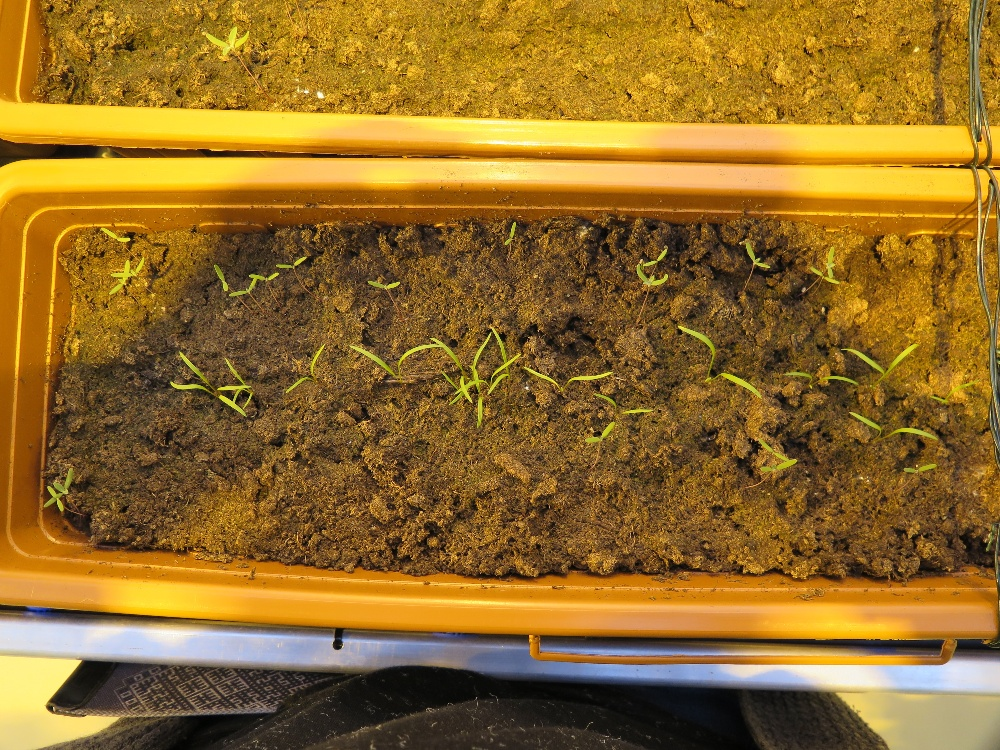crop: (673, 322, 780, 413), (166, 342, 268, 420), (432, 338, 512, 429), (843, 401, 943, 451), (466, 326, 527, 404), (777, 358, 871, 408), (846, 338, 930, 392), (346, 338, 443, 383), (518, 363, 614, 401), (284, 333, 330, 404), (739, 433, 807, 481), (589, 386, 664, 429), (575, 420, 623, 454)
weed: (198, 20, 268, 76), (257, 245, 323, 288), (39, 461, 84, 522), (100, 265, 150, 315), (621, 249, 673, 297), (802, 251, 841, 301), (741, 238, 775, 290), (823, 240, 859, 288), (234, 270, 268, 317), (639, 238, 675, 279), (114, 254, 159, 286), (932, 379, 980, 408), (366, 272, 405, 306), (205, 263, 241, 295), (100, 222, 134, 254), (900, 456, 939, 483), (248, 270, 284, 292)
